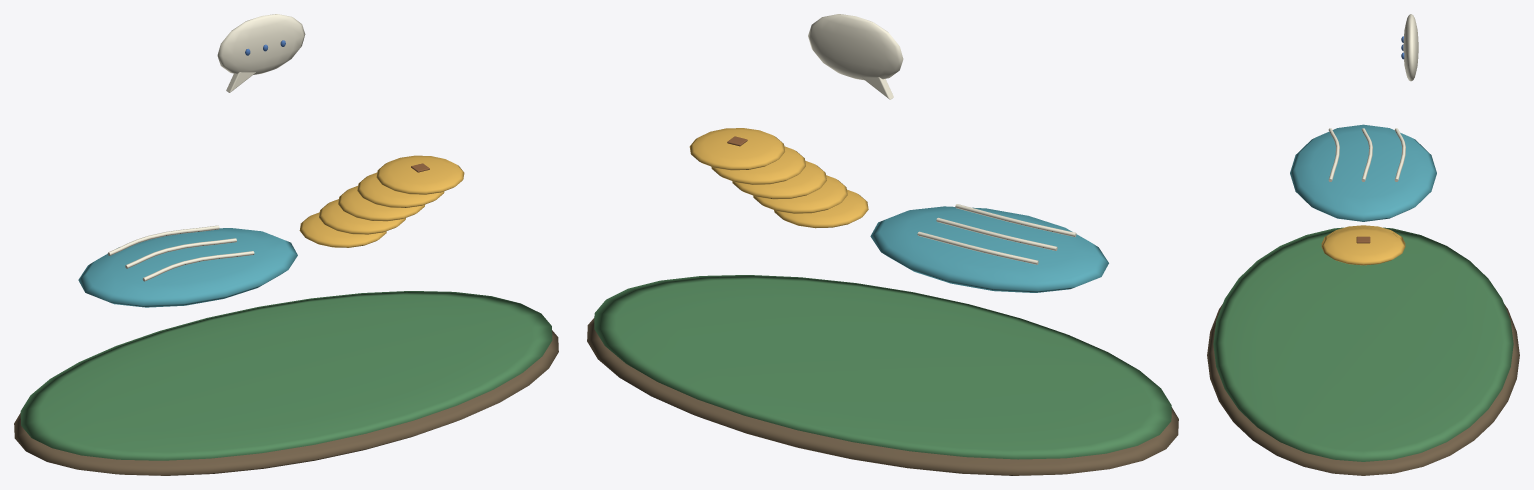
File: complete-third-flowing-profitable-speech.glb
The picture shows the model from 3 angles, left to right: view 1: azimuth 30°, elevation 25°; view 2: azimuth 150°, elevation 25°; view 3: azimuth 270°, elevation 25°; orthographic projection. The views are drawn at different scales.
Visible parts, largest first — view 1: complete-third-flowing-profitable-speech_surface_01, complete-third-flowing-profitable-speech_surface_02, complete-third-flowing-profitable-speech_surface_00, complete-third-flowing-profitable-speech_surface_04, complete-third-flowing-profitable-speech_surface_03; view 2: complete-third-flowing-profitable-speech_surface_01, complete-third-flowing-profitable-speech_surface_02, complete-third-flowing-profitable-speech_surface_00, complete-third-flowing-profitable-speech_surface_04, complete-third-flowing-profitable-speech_surface_03; view 3: complete-third-flowing-profitable-speech_surface_01, complete-third-flowing-profitable-speech_surface_02, complete-third-flowing-profitable-speech_surface_00, complete-third-flowing-profitable-speech_surface_04, complete-third-flowing-profitable-speech_surface_03.
Part boxes in pixels (x1,y1,x2,y2): complete-third-flowing-profitable-speech_surface_01: [20, 291, 552, 460]; complete-third-flowing-profitable-speech_surface_02: [78, 228, 297, 307]; complete-third-flowing-profitable-speech_surface_00: [14, 330, 558, 475]; complete-third-flowing-profitable-speech_surface_04: [299, 155, 464, 247]; complete-third-flowing-profitable-speech_surface_03: [107, 14, 305, 281]; complete-third-flowing-profitable-speech_surface_01: [594, 275, 1171, 459]; complete-third-flowing-profitable-speech_surface_02: [870, 206, 1108, 292]; complete-third-flowing-profitable-speech_surface_00: [587, 318, 1178, 475]; complete-third-flowing-profitable-speech_surface_04: [689, 128, 868, 228]; complete-third-flowing-profitable-speech_surface_03: [808, 14, 1076, 264]; complete-third-flowing-profitable-speech_surface_01: [1213, 227, 1513, 461]; complete-third-flowing-profitable-speech_surface_02: [1290, 124, 1436, 221]; complete-third-flowing-profitable-speech_surface_00: [1207, 304, 1519, 475]; complete-third-flowing-profitable-speech_surface_04: [1321, 225, 1405, 265]; complete-third-flowing-profitable-speech_surface_03: [1328, 14, 1418, 181].
Size of the model in its own units: 4.56 by 3.08 by 2.5.
